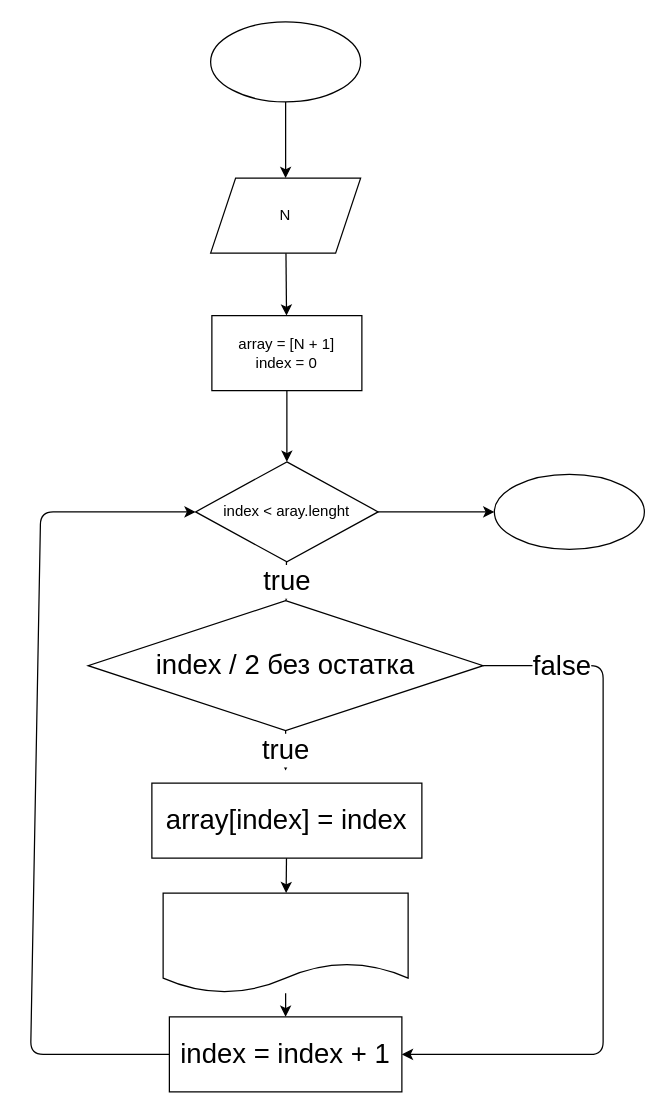
Some shapes in this 666 by 1114 pixel diagram are drawn without their labels. The shapes that lost their labels are listed below. From the top down, each one's centre as x and y in pixels, then its label:
At point (285, 61): "start".
At point (568, 511): "end".
At point (285, 942): "array[index]".
